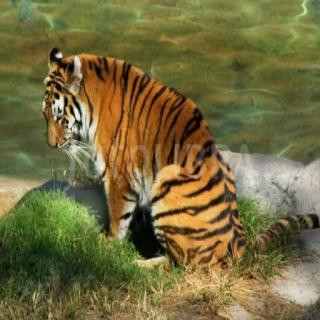Tiger: (36, 44, 254, 277)
